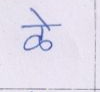o_matra: (37, 11, 49, 50)
